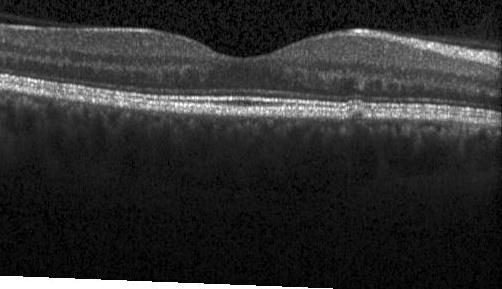retinal_drusen: (350, 108, 366, 119)
